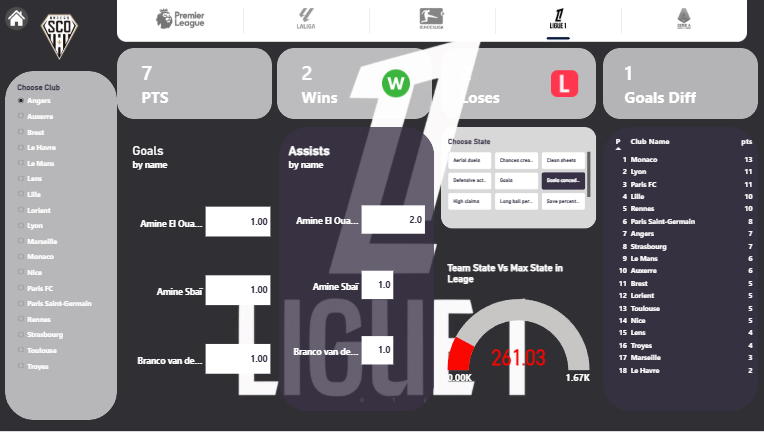

Layout of this report page (visuals, bound fields, positions):
{"tool":"powerbi","page":{"name":"T_Ligue 1","canvas":[1920,1080],"ordinal":4},"visuals":[{"type":"shape","box":[1108,320,388,254],"z":0},{"type":"shape","box":[702.7,321,388.2,711.3],"z":1000},{"type":"shape","box":[1511.6,321,388.2,711.3],"z":2000},{"type":"shape","box":[297.5,122.5,387.5,177.5],"z":3000},{"type":"image","box":[297.5,0,1575,107.5],"z":4000},{"type":"shape","box":[17.5,180,280,872.5],"z":5000},{"type":"slicer","fields":{"Values":["Teams_All.name"]},"box":[40,210,280,842.5],"z":6000},{"type":"pivotTable","fields":{"Columns":["Top 5 Leagues.Logo URL"]},"box":[55,15,195,215],"z":7000},{"type":"cardVisual","fields":{"Data":["Sum(Teams_All.pts)"]},"box":[342.5,145,260,130],"z":8000},{"type":"shape","box":[697.5,122.5,387.5,177.5],"z":9000},{"type":"shape","box":[1107.5,122.5,387.5,177.5],"z":10000},{"type":"shape","box":[1512.5,122.5,387.5,177.5],"z":11000},{"type":"cardVisual","fields":{"Data":["Sum(Teams_All.wins)"]},"box":[742.5,145,260,130],"z":12000},{"type":"cardVisual","fields":{"Data":["Sum(Teams Dim.losses)"]},"box":[1140,145,260,130],"z":13000},{"type":"cardVisual","fields":{"Data":["Sum(Teams_All.goalConDiff)"]},"box":[1550,145,260,130],"z":14000},{"type":"image","box":[960,165,70,92.5],"z":15000},{"type":"image","box":[1382.5,165,67.5,92.5],"z":16000},{"type":"tableEx","fields":{"Values":["Measures (2).League Rank","Teams_All.name","Teams_All.pts"]},"box":[1522.5,325,398,729.2],"z":17000},{"type":"clusteredBarChart","fields":{"Category":["Player_Dim.name"],"Y":["Measures (2).Goals"]},"box":[321,347,377.3,685.3],"z":18000},{"type":"clusteredBarChart","fields":{"Category":["Player_Dim.name"],"Y":["Measures (2).Assists"]},"box":[709.2,347,377.3,685.3],"z":19000},{"type":"advancedSlicerVisual","title":"Choose State","fields":{"Values":["Facts Table.trait_title"]},"box":[1126,346,356,182],"z":20000},{"type":"gauge","title":"Team State Vs Max State in Leage","fields":{"MaxValue":["Measures (2).Sum of trait_value max per teamId"],"Y":["Sum(Facts Table.trait_value)"]},"box":[1107.5,645,387.5,360],"z":21000},{"type":"image","box":[17.5,15,57.5,67.5],"z":22000},{"type":"actionButton","box":[297.5,0,305,107.5],"z":23000},{"type":"actionButton","box":[620,0,305,107.5],"z":24000},{"type":"actionButton","box":[932.5,0,305,107.5],"z":25000},{"type":"actionButton","box":[1567.5,0,305,107.5],"z":26000}]}

Visuals, with their boxes on the page's 1920x1080 design canvas (x1, y1, x2, y2). These are canvas units, not pixel positions in the 764x432 screenshot, which may show the page scaled, cropped or inside an application window:
shape: [x1=1108, y1=320, x2=1496, y2=574]
shape: [x1=703, y1=321, x2=1091, y2=1032]
shape: [x1=1512, y1=321, x2=1900, y2=1032]
shape: [x1=298, y1=122, x2=685, y2=300]
image: [x1=298, y1=0, x2=1872, y2=108]
shape: [x1=18, y1=180, x2=298, y2=1052]
slicer - Teams_All.name: [x1=40, y1=210, x2=320, y2=1052]
pivotTable - Top 5 Leagues.Logo URL: [x1=55, y1=15, x2=250, y2=230]
cardVisual - Sum(Teams_All.pts): [x1=342, y1=145, x2=602, y2=275]
shape: [x1=698, y1=122, x2=1085, y2=300]
shape: [x1=1108, y1=122, x2=1495, y2=300]
shape: [x1=1512, y1=122, x2=1900, y2=300]
cardVisual - Sum(Teams_All.wins): [x1=742, y1=145, x2=1002, y2=275]
cardVisual - Sum(Teams Dim.losses): [x1=1140, y1=145, x2=1400, y2=275]
cardVisual - Sum(Teams_All.goalConDiff): [x1=1550, y1=145, x2=1810, y2=275]
image: [x1=960, y1=165, x2=1030, y2=258]
image: [x1=1382, y1=165, x2=1450, y2=258]
tableEx - Measures (2).League Rank x Teams_All.name: [x1=1522, y1=325, x2=1920, y2=1054]
clusteredBarChart - Player_Dim.name x Measures (2).Goals: [x1=321, y1=347, x2=698, y2=1032]
clusteredBarChart - Player_Dim.name x Measures (2).Assists: [x1=709, y1=347, x2=1086, y2=1032]
"Choose State" advancedSlicerVisual: [x1=1126, y1=346, x2=1482, y2=528]
"Team State Vs Max State in Leage" gauge: [x1=1108, y1=645, x2=1495, y2=1005]
image: [x1=18, y1=15, x2=75, y2=82]
actionButton: [x1=298, y1=0, x2=602, y2=108]
actionButton: [x1=620, y1=0, x2=925, y2=108]
actionButton: [x1=932, y1=0, x2=1238, y2=108]
actionButton: [x1=1568, y1=0, x2=1872, y2=108]
